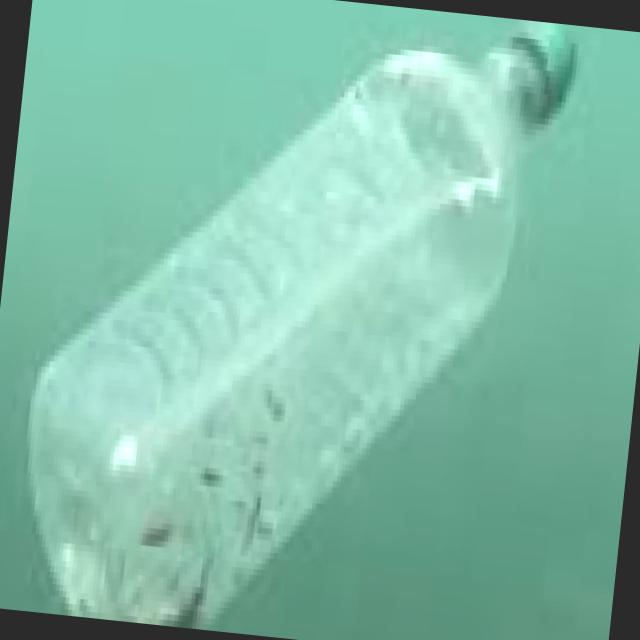Recycle: (8, 0, 576, 640)
